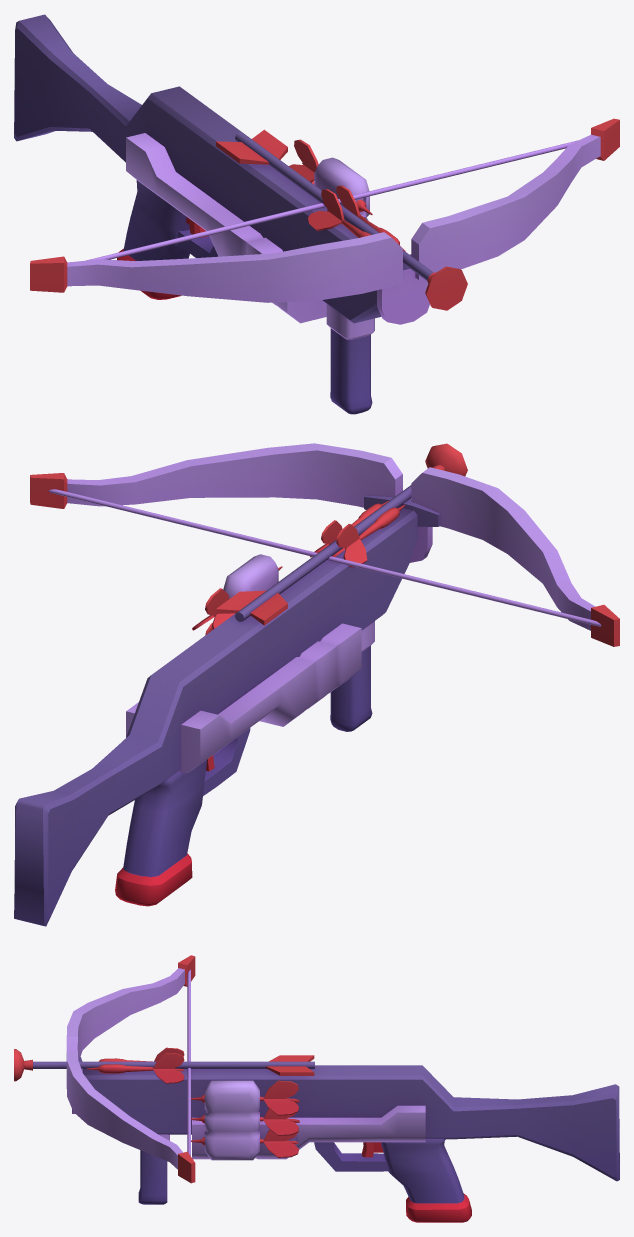
The model's file is LowPoly_DartGun.fbx.
The picture shows the model from 3 angles, top to bottom: view 1: azimuth 30°, elevation 25°; view 2: azimuth 150°, elevation 25°; view 3: azimuth 270°, elevation 25°; orthographic projection. The views are drawn at different scales.
Visible parts, largest first — view 1: DartGun, arrow, dart_1, dart_3, dart_2; view 2: DartGun, arrow, dart_1, dart_3; view 3: DartGun, arrow, dart_3, dart_2.
Part boxes in pixels (<box>): DartGun: <box>14,14,619,414</box>; arrow: <box>216,129,467,310</box>; dart_1: <box>308,189,370,237</box>; dart_3: <box>289,139,372,214</box>; dart_2: <box>336,185,405,251</box>; DartGun: <box>14,443,619,926</box>; arrow: <box>216,443,467,625</box>; dart_1: <box>332,505,405,567</box>; dart_3: <box>192,566,282,635</box>; DartGun: <box>66,955,619,1222</box>; arrow: <box>14,1049,314,1081</box>; dart_3: <box>191,1080,299,1157</box>; dart_2: <box>87,1053,184,1083</box>.
Bounding box in the file's own units: 278 × 107 × 341.
